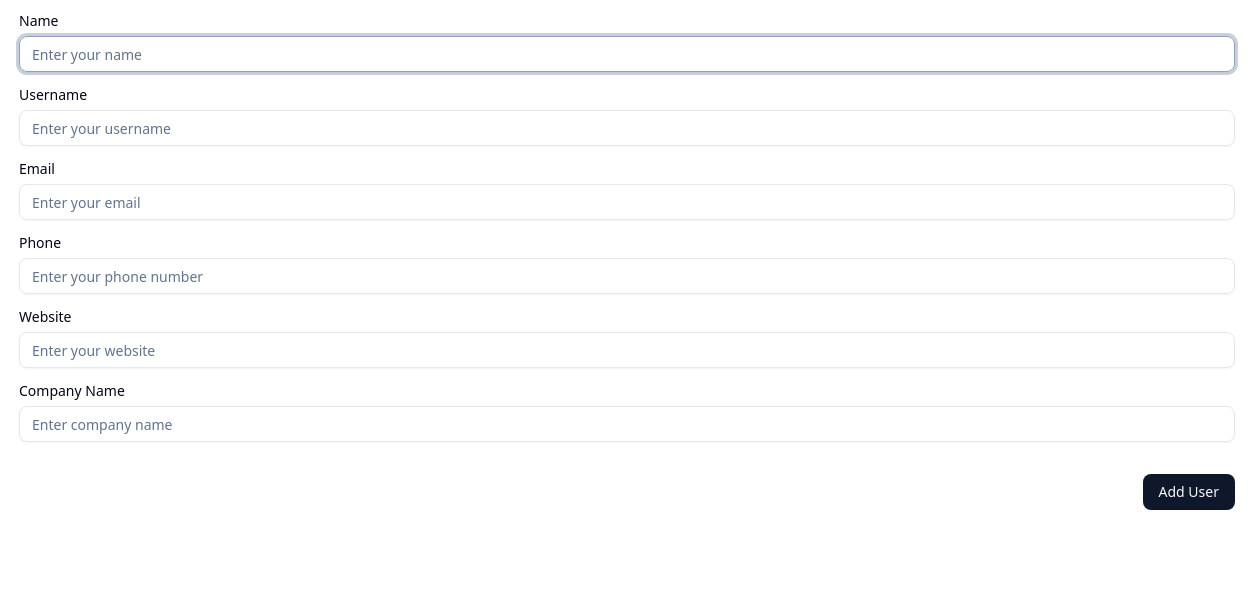
Test: UserForm › shows validation errors when required fields are missing
Click the button "Add User" at (1189,492), box [1143,474,1235,510]
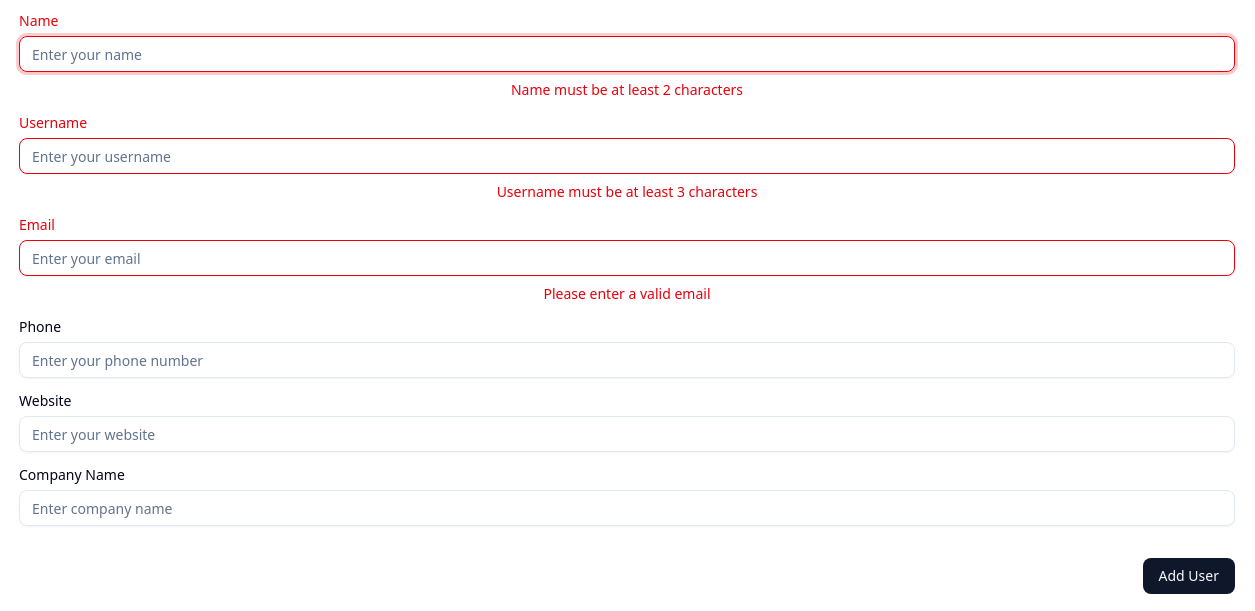
Result: the text "Name must be at least 2 characters" is shown at [511,80,743,99]
Result: the text "Username must be at least 3 characters" is shown at [497,182,757,201]
Result: the text "Please enter a valid email" is shown at [544,284,710,303]
